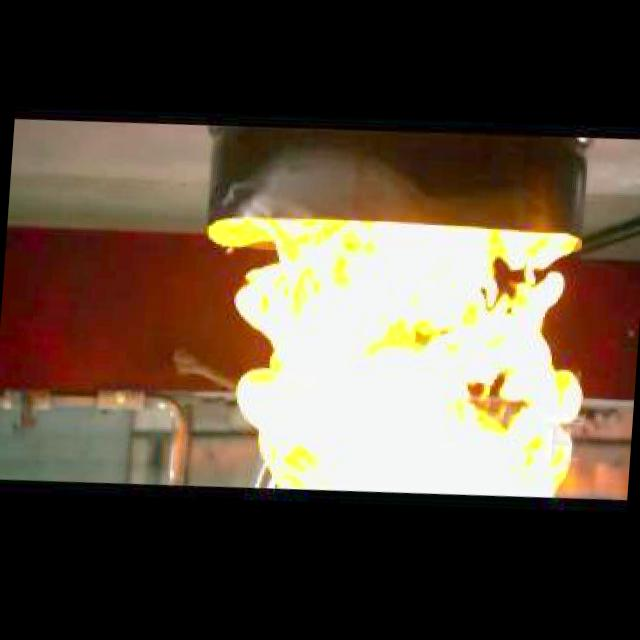Smoke: (198, 211, 587, 506)
